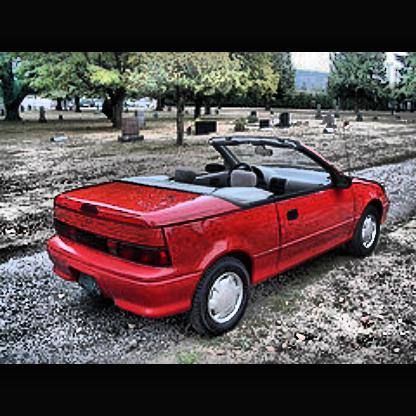Geo Metro Convertible 1993: (48, 139, 396, 333)
